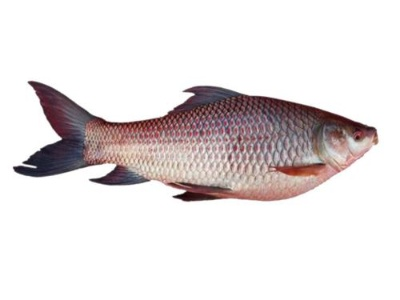rohu: (8, 74, 380, 207)
